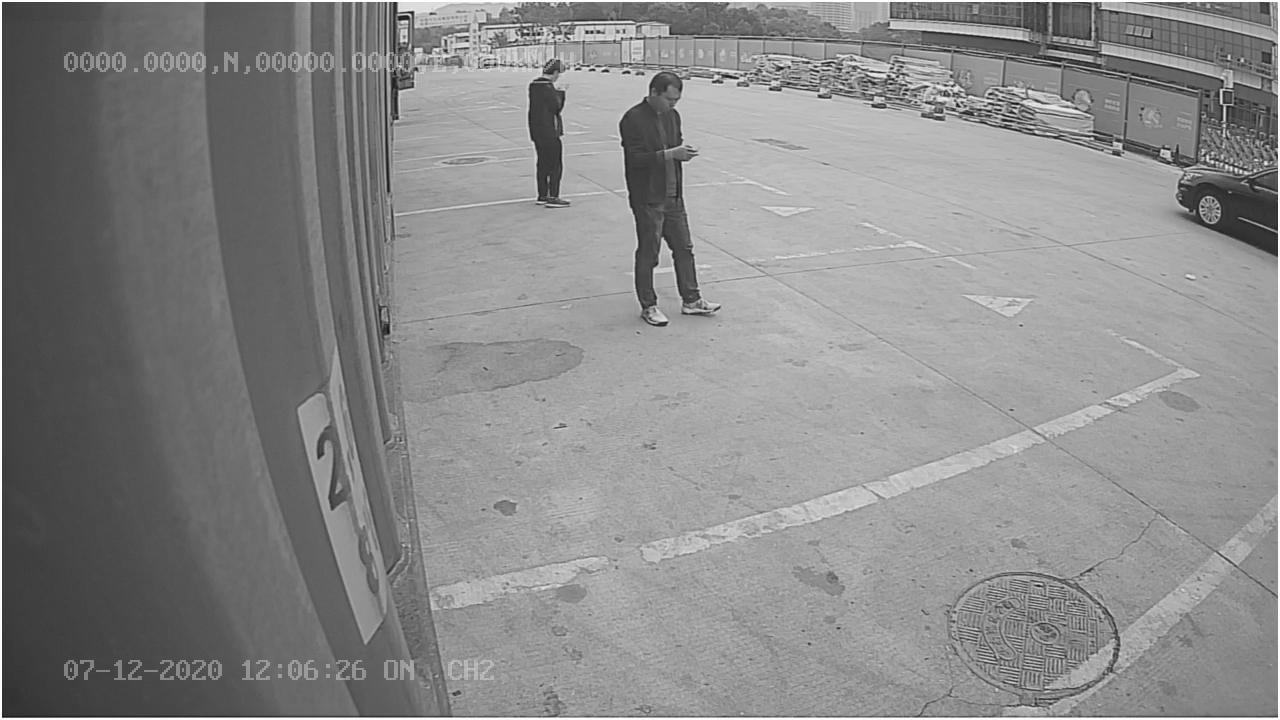person: (617, 62, 721, 325)
